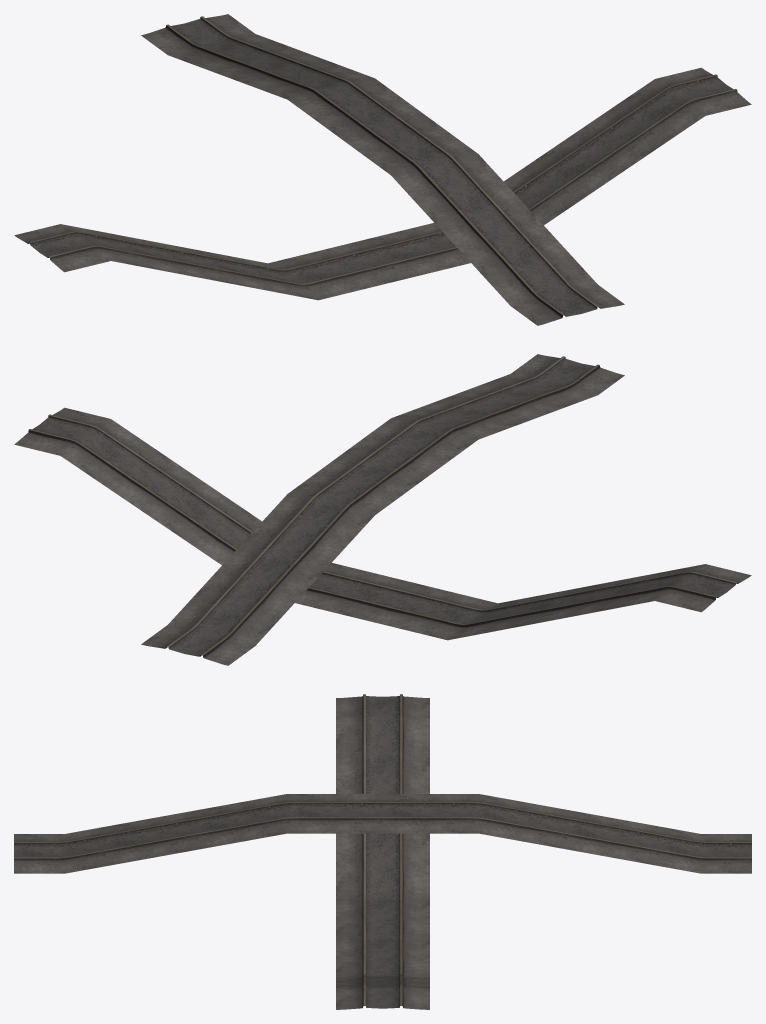
File: Rail Tunnel Straight Overlap.dae
3 views of the same model, one above another, from view 1: azimuth 30°, elevation 25°; view 2: azimuth 150°, elevation 25°; view 3: azimuth 270°, elevation 25° (orthographic). The views are drawn at different scales.
Visible parts, largest first — view 1: Rail_StraightOverlapping; view 2: Rail_StraightOverlapping; view 3: Rail_StraightOverlapping.
Boxes of the visible parts, left/top/right/bottom form: Rail_StraightOverlapping: left=14, top=14, right=751, bottom=325; Rail_StraightOverlapping: left=14, top=354, right=751, bottom=665; Rail_StraightOverlapping: left=14, top=694, right=751, bottom=1009.
Bounding box in the file's own units: 2000 × 2000 × 382.
